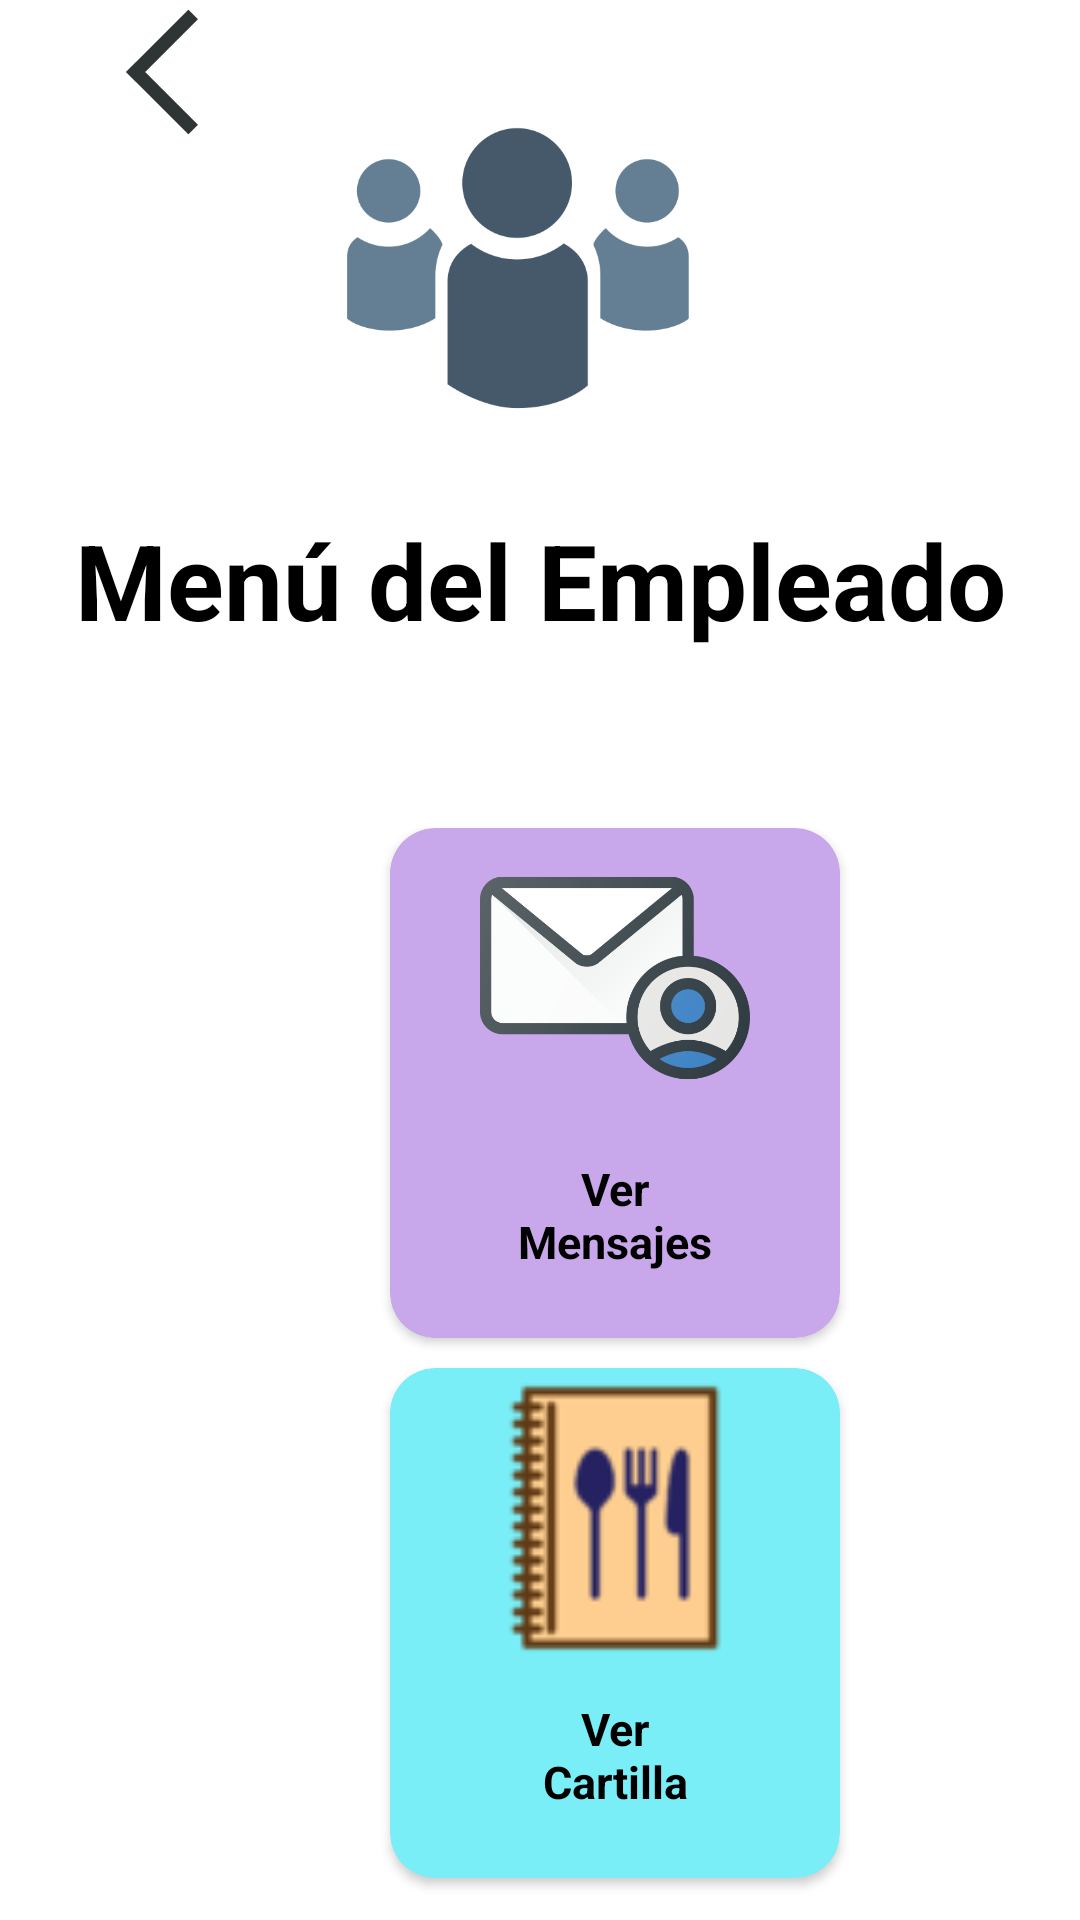

Where to tap for icons on this 1080 × 1920 app screen, as (x,y):
fllecha: (162,72)
personal: (518,268)
